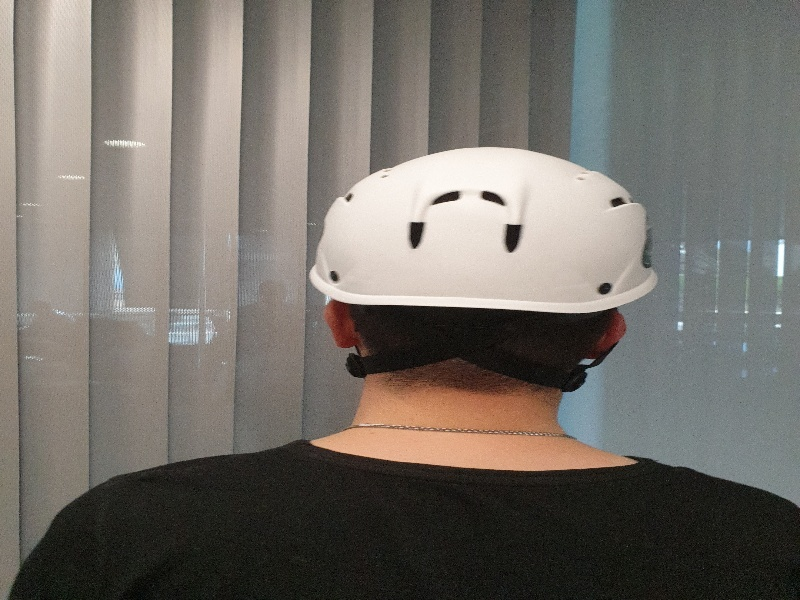baret: (309, 144, 657, 316)
